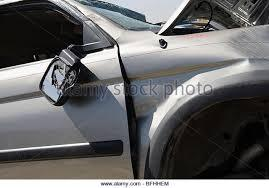Sidemirror-Damage: (25, 23, 107, 99)
fender-dent: (126, 37, 252, 127)
